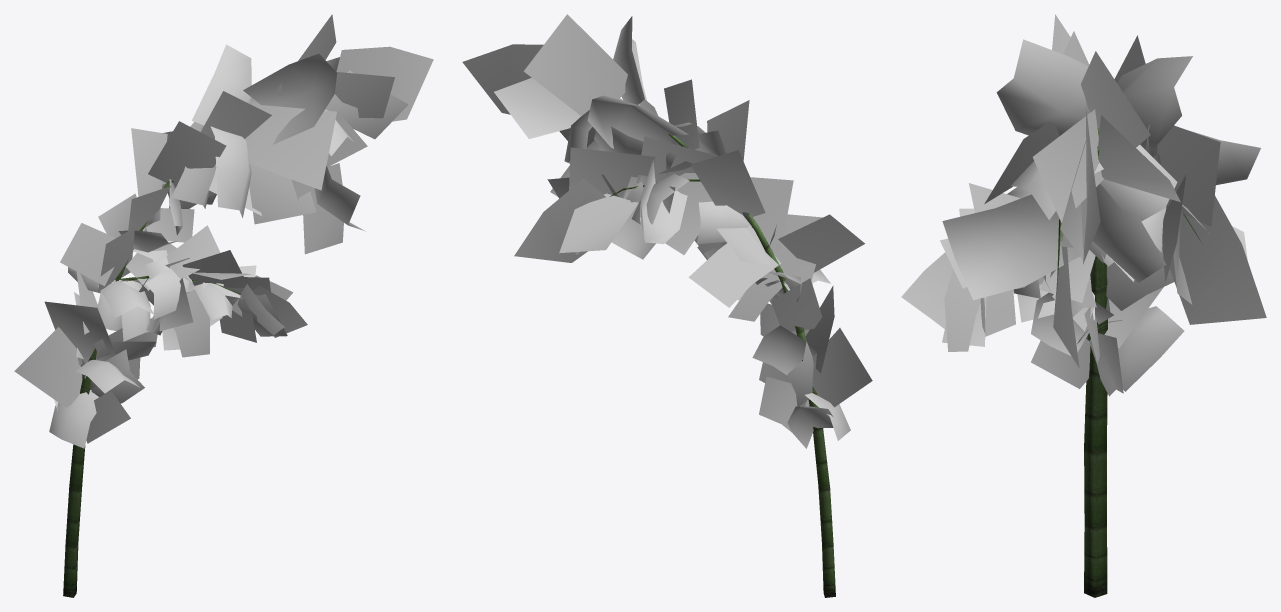
The model's file is JiaYeSi__ZhuZi_3.FBX.
The picture shows the model from 3 angles, left to right: view 1: azimuth 30°, elevation 25°; view 2: azimuth 150°, elevation 25°; view 3: azimuth 270°, elevation 25°; orthographic projection. The views are drawn at different scales.
Visible parts, largest first — view 1: JiaYeSi__ZhuZi_3b, JiaYeSi__ZhuZi_3a; view 2: JiaYeSi__ZhuZi_3b, JiaYeSi__ZhuZi_3a; view 3: JiaYeSi__ZhuZi_3b, JiaYeSi__ZhuZi_3a.
Boxes of the visible parts, x1,y1,x2,y2 form: JiaYeSi__ZhuZi_3b: (14,14,433,448); JiaYeSi__ZhuZi_3a: (63,181,241,597); JiaYeSi__ZhuZi_3b: (462,14,872,448); JiaYeSi__ZhuZi_3a: (609,134,835,597); JiaYeSi__ZhuZi_3b: (901,14,1266,396); JiaYeSi__ZhuZi_3a: (1056,128,1201,597).
Bounding box in the file's own units: 531 × 631 × 290.
